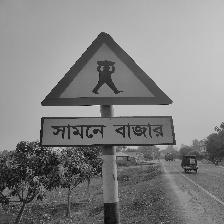Market-in-front: (39, 31, 176, 146)
